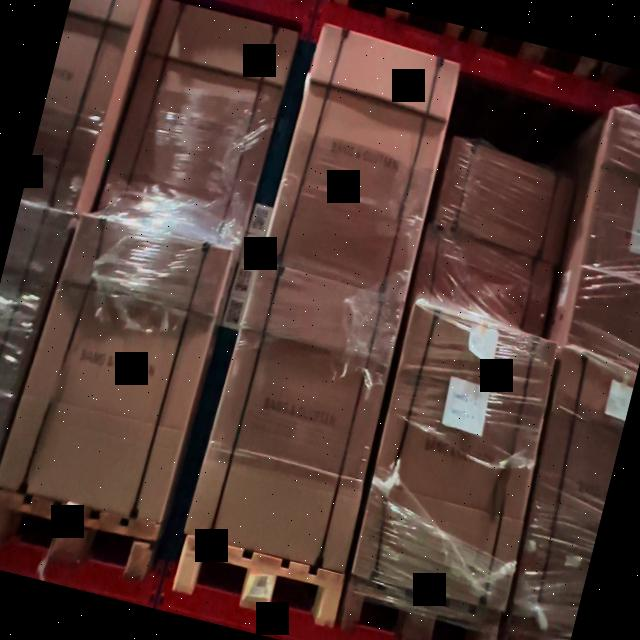box: (0, 212, 231, 521), (188, 259, 403, 569), (352, 305, 557, 611), (262, 26, 459, 295), (95, 0, 295, 251), (435, 144, 574, 266), (415, 230, 556, 337)
